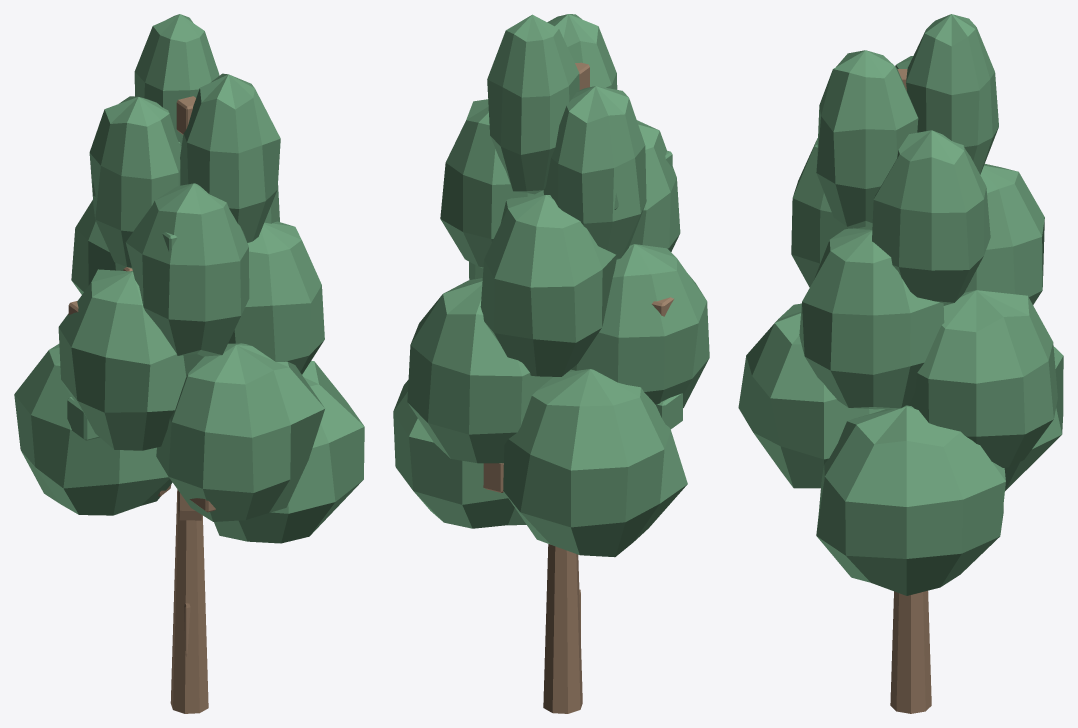
The model's file is b08_eastern_red_cedar.glb.
The picture shows the model from 3 angles, left to right: view 1: azimuth 30°, elevation 25°; view 2: azimuth 150°, elevation 25°; view 3: azimuth 270°, elevation 25°; orthographic projection. The views are drawn at different scales.
Visible parts, largest first — view 1: b08_eastern_red_cedar; view 2: b08_eastern_red_cedar; view 3: b08_eastern_red_cedar.
Boxes of the visible parts, box(x1,y1,x2,y2) form: b08_eastern_red_cedar: box(14, 14, 364, 713); b08_eastern_red_cedar: box(393, 14, 709, 713); b08_eastern_red_cedar: box(738, 14, 1063, 713).
Size of the model in its own units: 2.08 by 4.73 by 2.
